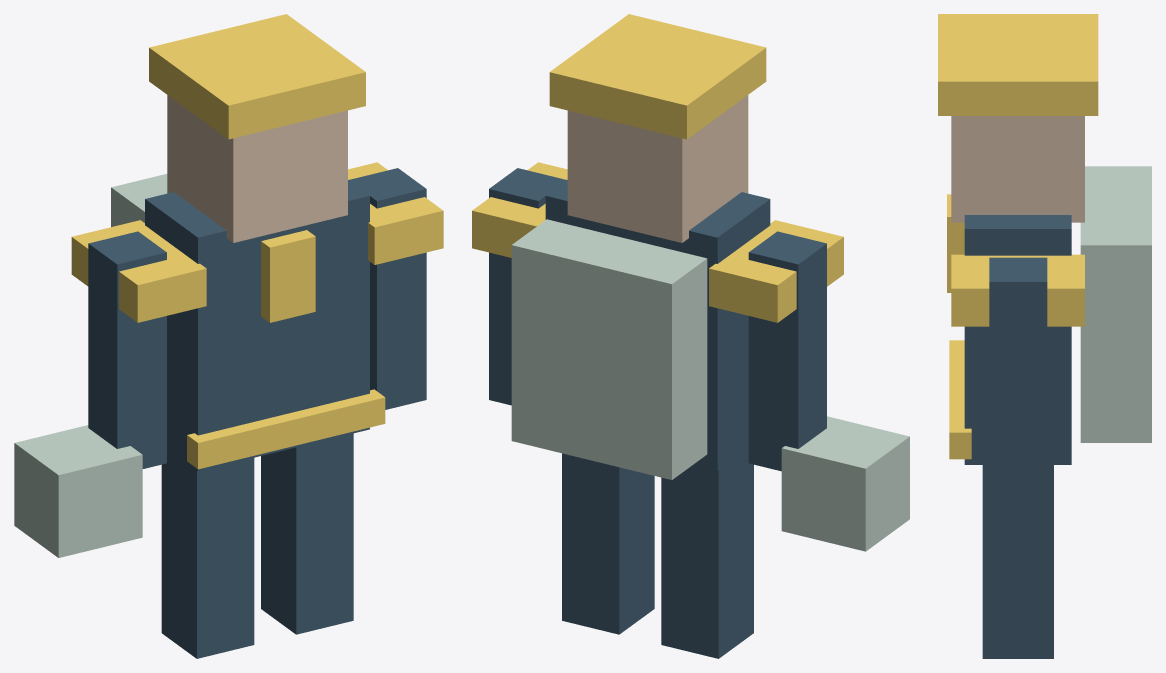
The model's file is 06_auren_echohand_broker_near_mag_rail.glb.
The picture shows the model from 3 angles, left to right: view 1: azimuth 30°, elevation 25°; view 2: azimuth 150°, elevation 25°; view 3: azimuth 270°, elevation 25°; orthographic projection.
Visible parts, largest first — view 1: Auren Echohand, Broker near Mag-Rail; view 2: Auren Echohand, Broker near Mag-Rail; view 3: Auren Echohand, Broker near Mag-Rail.
Part boxes in pixels (left/top/right/bottom): Auren Echohand, Broker near Mag-Rail: left=14, top=14, right=443, bottom=658; Auren Echohand, Broker near Mag-Rail: left=472, top=14, right=909, bottom=658; Auren Echohand, Broker near Mag-Rail: left=938, top=14, right=1151, bottom=658.
Bounding box in the file's own units: 0.9728 × 1.39 × 0.4693.
